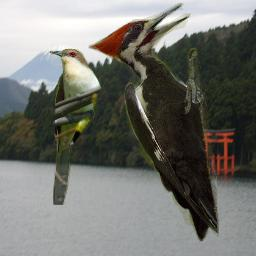Cuckoo: (49, 48, 102, 205)
Woodpecker: (88, 3, 219, 242)
